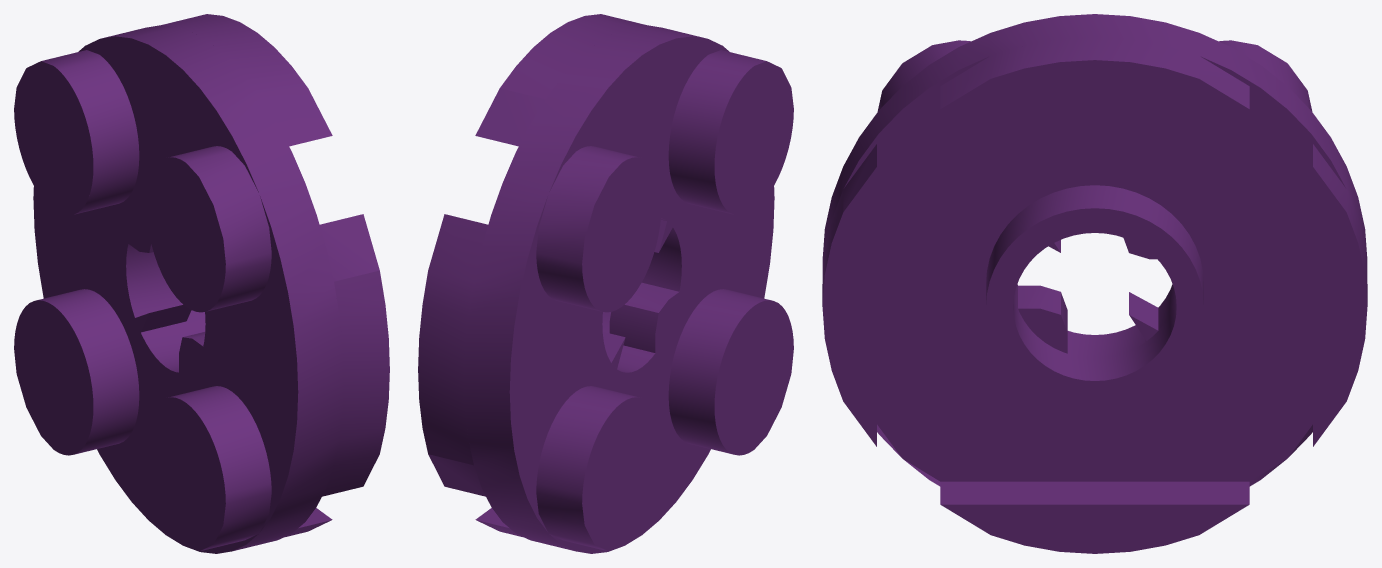
File: plate_round2*2_with_axle_hole(x_shape)_medium_lavender.obj
3 renders of one model, left to right at view 1: azimuth 30°, elevation 25°; view 2: azimuth 150°, elevation 25°; view 3: azimuth 270°, elevation 25°, orthographic. The views are drawn at different scales.
Bounding box in the file's own units: 12 × 40 × 40.
